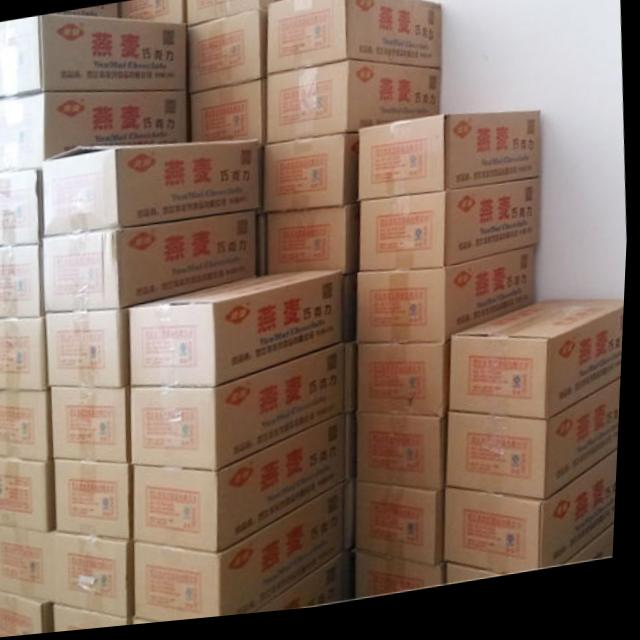box: (135, 420, 362, 554), (137, 490, 359, 626), (134, 347, 361, 477), (132, 277, 361, 389), (44, 216, 263, 315), (41, 144, 269, 239), (448, 309, 627, 429), (446, 462, 622, 582), (448, 393, 625, 511), (344, 254, 543, 352), (360, 191, 543, 278), (361, 122, 545, 208), (0, 15, 188, 97), (0, 93, 190, 170), (264, 65, 444, 145), (264, 0, 441, 81), (265, 141, 364, 218), (359, 420, 450, 500), (358, 493, 451, 571), (62, 533, 140, 623), (265, 208, 361, 281), (361, 349, 450, 425), (57, 461, 139, 543), (51, 388, 134, 469), (187, 12, 267, 96), (47, 311, 132, 389), (260, 558, 361, 619), (186, 80, 265, 149), (0, 521, 62, 606), (0, 458, 62, 532), (359, 559, 449, 605), (0, 389, 57, 461), (0, 316, 50, 391), (0, 166, 43, 247), (0, 245, 46, 316), (0, 588, 61, 638), (188, 0, 300, 27), (567, 531, 620, 574), (61, 606, 139, 634), (116, 0, 187, 25), (447, 571, 509, 593)
